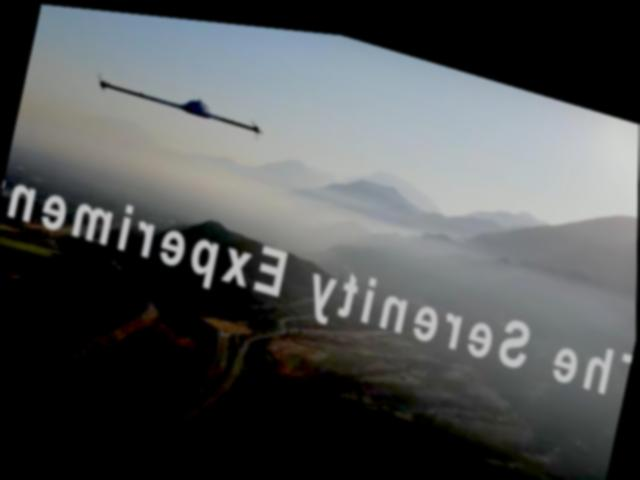iha: (87, 58, 271, 136)
